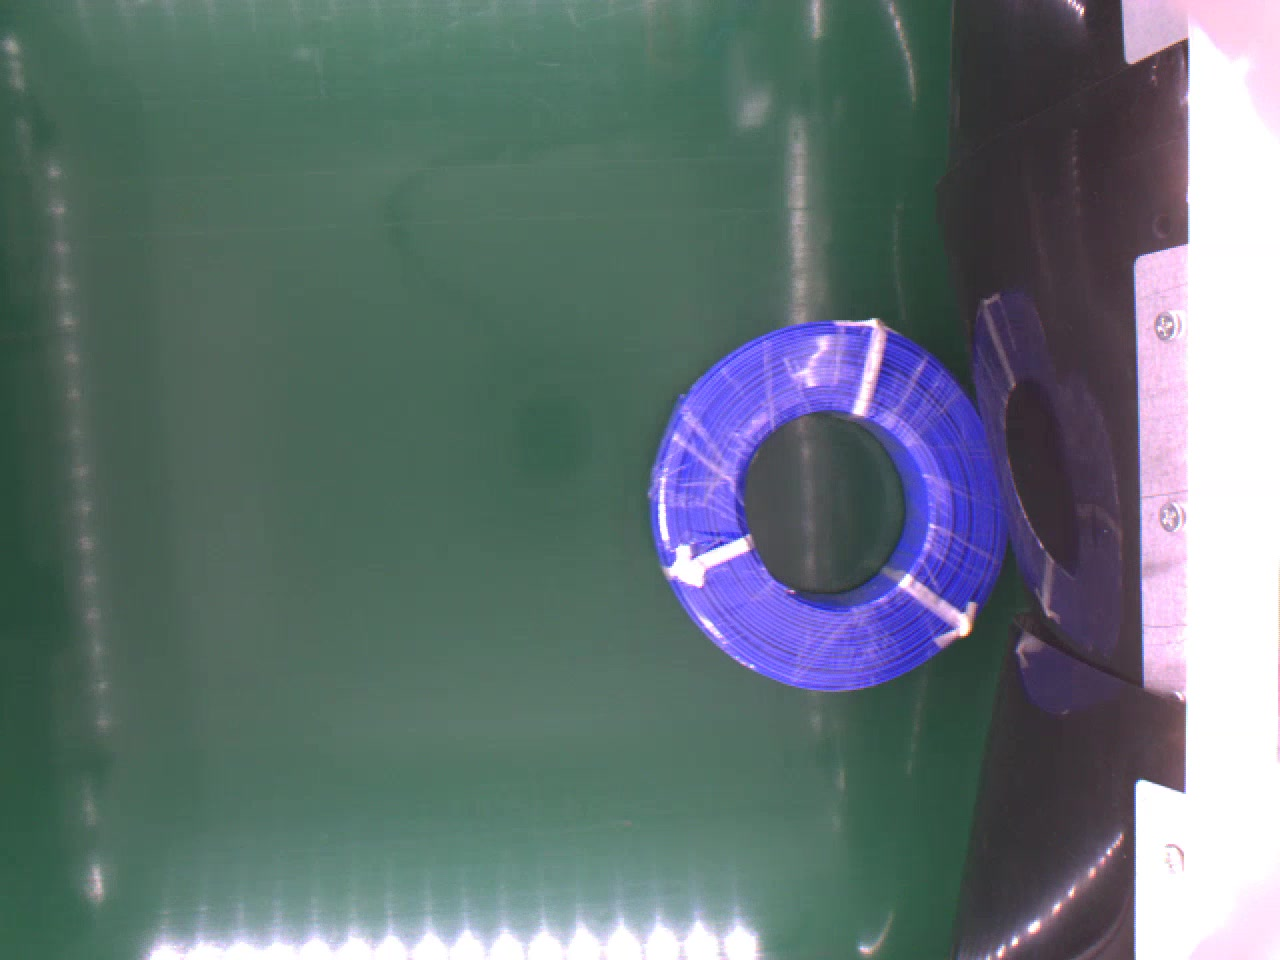blue: (645, 314, 1012, 700)
